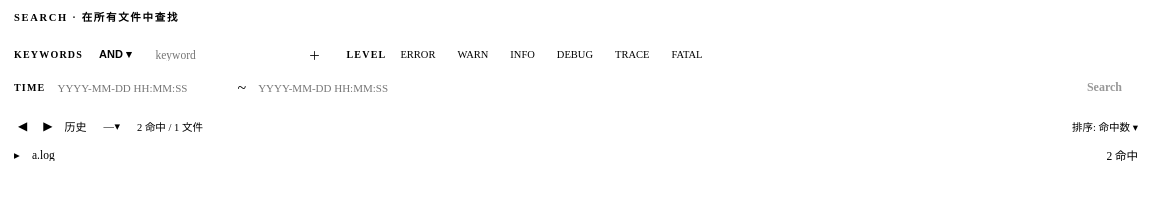
it: SearchPanel results › fetches matching line content via getLines when a file row is expanded
Click the button "▸ a.log 2 命中": (17, 155) [14,149,1138,162]
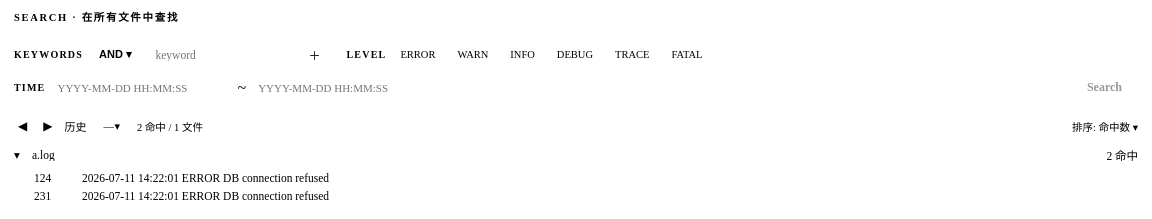
Result: the text "2026-07-11 14:22:01 ERROR DB connection refused" is shown 2 times at [82,172,329,184]; [82,190,329,202]
